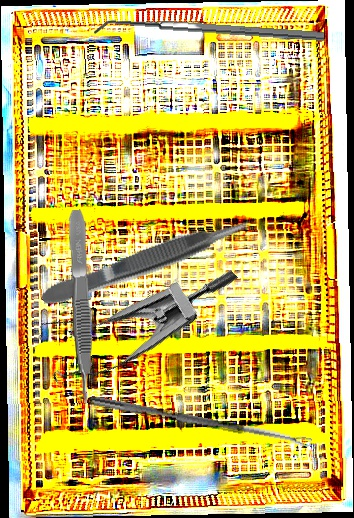Spatula Surgical: (93, 15, 325, 51)
Speculum: (19, 203, 241, 420)
Surgical Spoon: (88, 395, 312, 449)
Tissue Forceps: (37, 211, 256, 310), (67, 209, 94, 405)
